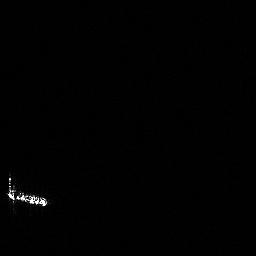ship: (3, 170, 51, 210)
